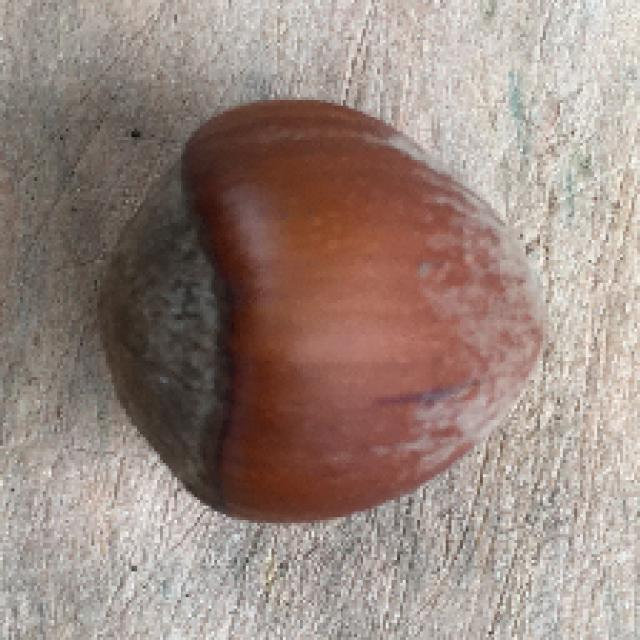QualityHazelnut: (97, 95, 556, 525)
